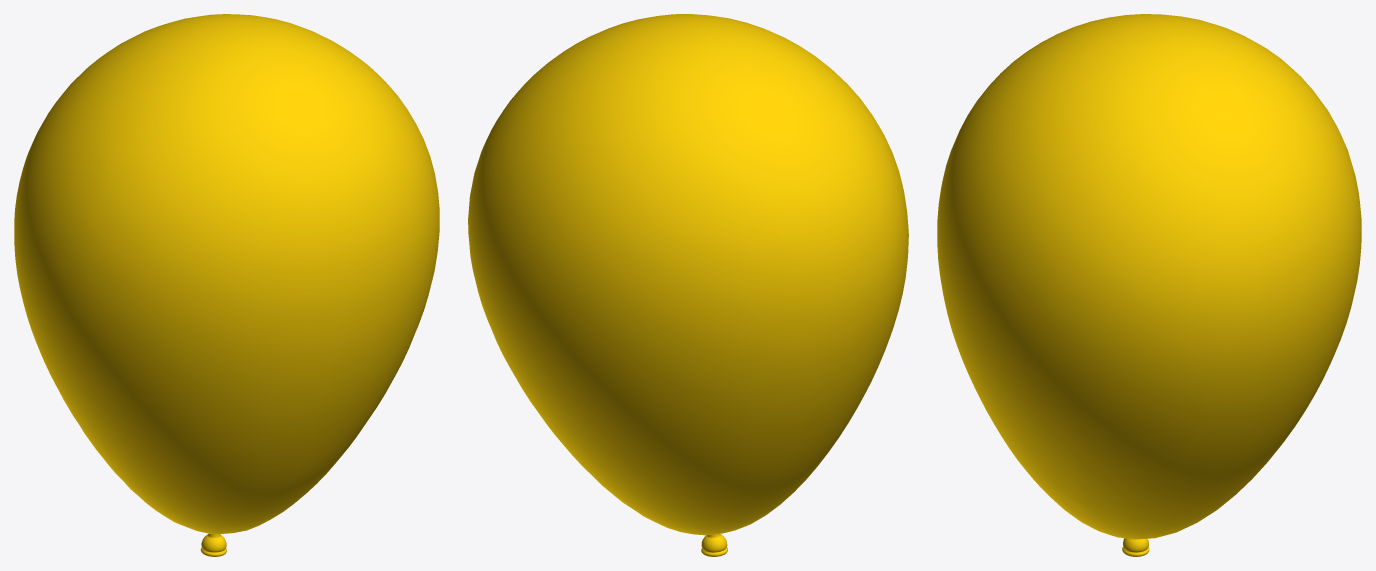
Rendered from balloon_yellow.fbx.
3 renders of one model, left to right at view 1: azimuth 30°, elevation 25°; view 2: azimuth 150°, elevation 25°; view 3: azimuth 270°, elevation 25°, orthographic. The views are drawn at different scales.
Visible parts, largest first — view 1: node_id214.004; view 2: node_id214.004; view 3: node_id214.004.
Part boxes in pixels (left/top/right/bottom): node_id214.004: left=14, top=14, right=439, bottom=556; node_id214.004: left=468, top=14, right=908, bottom=556; node_id214.004: left=937, top=14, right=1361, bottom=556.
Size of the model in its own units: 9.05 by 11.63 by 8.48.
